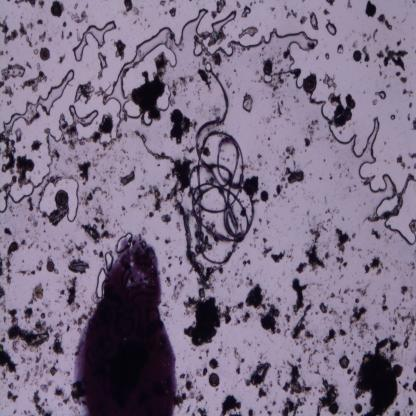Air bubble: (101, 25, 180, 114), (214, 22, 320, 72), (0, 68, 75, 138), (38, 170, 87, 227), (72, 21, 117, 63), (345, 115, 380, 167), (176, 5, 211, 50), (68, 104, 98, 128), (211, 10, 238, 34), (121, 98, 142, 121), (154, 84, 170, 112), (95, 267, 107, 299), (1, 64, 25, 79), (116, 232, 132, 253), (152, 184, 163, 212), (104, 249, 113, 274), (309, 10, 319, 31), (143, 108, 153, 127), (192, 41, 203, 58), (97, 52, 108, 69), (326, 19, 337, 36), (262, 72, 274, 85), (241, 6, 251, 18), (376, 90, 387, 100), (205, 61, 212, 72), (389, 112, 396, 122)
Background material: (356, 337, 398, 414), (184, 290, 222, 349), (130, 72, 170, 119), (296, 225, 327, 275), (327, 90, 357, 131), (282, 360, 312, 396), (290, 303, 316, 342), (317, 376, 340, 414), (80, 222, 116, 244), (259, 304, 281, 336), (384, 44, 408, 72), (173, 155, 191, 192), (246, 362, 273, 386), (19, 70, 48, 92), (167, 117, 192, 142), (390, 305, 413, 332), (350, 304, 368, 338), (0, 138, 17, 174), (0, 346, 21, 375), (31, 388, 53, 415), (246, 285, 268, 312), (193, 264, 216, 288), (362, 252, 384, 277), (0, 15, 18, 45), (292, 278, 306, 314), (220, 392, 242, 414), (280, 394, 303, 415), (231, 345, 246, 376), (304, 119, 319, 150), (401, 319, 416, 350), (272, 82, 284, 119), (74, 82, 95, 103), (335, 225, 350, 254), (68, 276, 80, 312), (322, 344, 338, 371), (48, 206, 70, 225), (16, 155, 29, 187), (0, 174, 17, 198), (202, 33, 229, 48), (284, 166, 306, 184), (155, 52, 170, 77), (7, 307, 18, 341), (179, 372, 195, 395), (28, 284, 44, 307), (274, 66, 300, 80), (34, 352, 47, 379), (52, 333, 66, 357), (208, 104, 224, 125), (241, 152, 256, 174), (30, 320, 53, 334), (245, 175, 259, 198), (67, 10, 89, 24), (272, 180, 287, 200), (100, 112, 113, 135), (329, 311, 343, 332), (197, 69, 211, 90), (338, 354, 352, 375), (238, 24, 259, 38), (120, 170, 136, 188), (210, 0, 226, 18), (113, 39, 126, 61), (99, 165, 114, 184), (78, 161, 91, 182), (310, 349, 320, 376), (6, 239, 20, 258), (22, 304, 36, 323), (173, 280, 184, 304), (242, 92, 254, 114), (160, 300, 173, 320), (136, 184, 152, 200), (322, 74, 338, 90), (321, 209, 338, 224), (323, 328, 337, 346), (170, 78, 179, 106), (378, 12, 392, 30), (100, 146, 121, 158), (221, 304, 232, 326), (283, 5, 298, 21), (13, 0, 37, 10), (72, 312, 87, 328), (262, 237, 273, 258), (121, 0, 133, 19), (335, 255, 349, 271), (60, 245, 76, 259), (175, 389, 188, 406), (339, 284, 350, 304), (272, 250, 287, 264), (275, 366, 285, 387), (240, 309, 253, 325), (301, 341, 314, 357), (322, 134, 335, 150), (75, 240, 87, 257), (306, 207, 317, 225), (356, 284, 370, 298), (5, 258, 12, 286), (92, 216, 106, 230), (361, 46, 371, 64), (264, 59, 274, 76), (18, 21, 28, 38), (256, 385, 268, 399), (27, 215, 39, 229), (92, 205, 106, 217), (40, 380, 52, 394), (284, 144, 296, 157), (7, 390, 19, 403), (94, 186, 107, 198), (318, 302, 329, 316), (232, 300, 243, 314), (54, 385, 65, 399), (115, 129, 129, 140), (381, 293, 389, 312), (14, 128, 24, 143), (2, 86, 14, 98), (30, 139, 43, 150), (212, 52, 223, 65), (272, 291, 283, 304), (21, 370, 31, 384), (84, 194, 94, 208), (48, 362, 58, 376), (19, 268, 36, 276), (396, 155, 405, 170), (162, 170, 173, 182), (26, 196, 34, 212), (52, 148, 61, 162), (371, 229, 382, 240), (196, 367, 207, 378), (183, 144, 194, 155), (244, 276, 255, 287), (91, 132, 101, 144), (400, 284, 410, 296), (67, 138, 77, 150), (299, 14, 309, 26), (180, 77, 188, 92), (190, 118, 198, 132), (4, 225, 14, 236), (280, 313, 290, 324), (36, 258, 43, 273), (409, 258, 416, 273), (350, 368, 358, 381), (58, 52, 66, 65), (338, 328, 348, 338), (242, 338, 252, 348), (161, 214, 171, 224), (374, 321, 383, 332), (38, 31, 47, 42), (196, 406, 207, 415), (0, 286, 7, 300), (407, 396, 415, 408), (337, 44, 345, 56), (402, 88, 414, 96), (96, 68, 104, 80), (169, 6, 177, 18), (216, 264, 224, 276), (322, 7, 332, 16), (386, 230, 394, 241), (376, 49, 384, 60), (264, 114, 271, 126), (132, 7, 141, 16), (37, 1, 46, 10), (242, 258, 252, 266), (32, 47, 40, 57), (54, 321, 64, 329), (62, 396, 70, 406), (350, 342, 360, 350), (194, 394, 204, 402), (224, 79, 234, 87), (176, 221, 182, 234), (26, 36, 33, 47), (273, 166, 280, 177), (373, 28, 377, 47), (163, 237, 172, 245), (166, 275, 172, 287), (26, 22, 35, 30), (402, 382, 410, 391), (347, 0, 354, 10), (411, 380, 416, 394), (282, 49, 289, 59), (19, 238, 27, 246), (36, 18, 44, 26), (344, 186, 352, 194), (45, 242, 53, 250), (406, 101, 413, 110), (203, 348, 210, 357), (235, 0, 242, 9), (351, 230, 358, 239), (121, 206, 128, 215), (326, 1, 336, 7), (324, 251, 330, 261), (0, 258, 3, 278), (406, 111, 411, 123), (91, 159, 97, 169), (353, 38, 359, 48), (410, 286, 414, 300), (247, 407, 254, 415), (394, 70, 402, 77), (409, 151, 416, 159), (27, 242, 35, 249), (183, 275, 190, 283), (401, 76, 408, 84), (296, 356, 303, 364), (67, 32, 74, 40), (60, 31, 65, 42), (98, 249, 104, 258), (161, 264, 167, 273), (351, 242, 356, 252), (142, 226, 147, 236), (6, 99, 13, 106), (159, 0, 166, 7), (326, 173, 333, 180), (406, 410, 414, 416), (64, 370, 70, 378), (324, 52, 330, 60), (40, 312, 46, 320), (60, 288, 66, 296), (148, 210, 154, 218), (266, 217, 271, 226), (219, 345, 223, 356), (92, 249, 98, 256), (73, 3, 79, 10), (330, 294, 337, 300), (257, 217, 263, 224), (252, 228, 258, 235), (0, 80, 5, 88), (179, 255, 183, 265), (264, 402, 268, 412), (413, 364, 416, 376), (413, 118, 416, 130), (256, 153, 262, 159), (318, 176, 324, 182), (270, 5, 276, 11), (266, 410, 272, 416), (154, 236, 160, 241), (349, 409, 353, 416), (199, 355, 203, 362), (63, 21, 67, 28), (66, 325, 70, 332), (338, 162, 342, 169), (273, 402, 278, 407), (356, 298, 360, 304), (322, 157, 326, 163), (168, 262, 172, 268), (168, 256, 173, 260), (292, 162, 297, 166)
Cellulose filter fibre: (166, 184, 207, 278), (368, 173, 416, 223), (132, 125, 174, 164), (18, 330, 50, 348)
Diatom: (68, 259, 88, 273), (54, 189, 68, 207), (170, 109, 184, 125), (304, 77, 316, 94), (208, 372, 220, 388), (50, 2, 62, 17), (362, 175, 376, 187), (392, 364, 403, 378), (328, 401, 339, 414), (40, 47, 50, 61), (365, 5, 377, 16), (342, 108, 352, 121), (25, 160, 34, 172), (209, 357, 218, 369), (260, 190, 269, 202), (46, 261, 54, 272), (354, 50, 362, 61), (355, 404, 362, 414)
Microfibre: (190, 69, 254, 266)
Pen: (75, 232, 176, 415)
